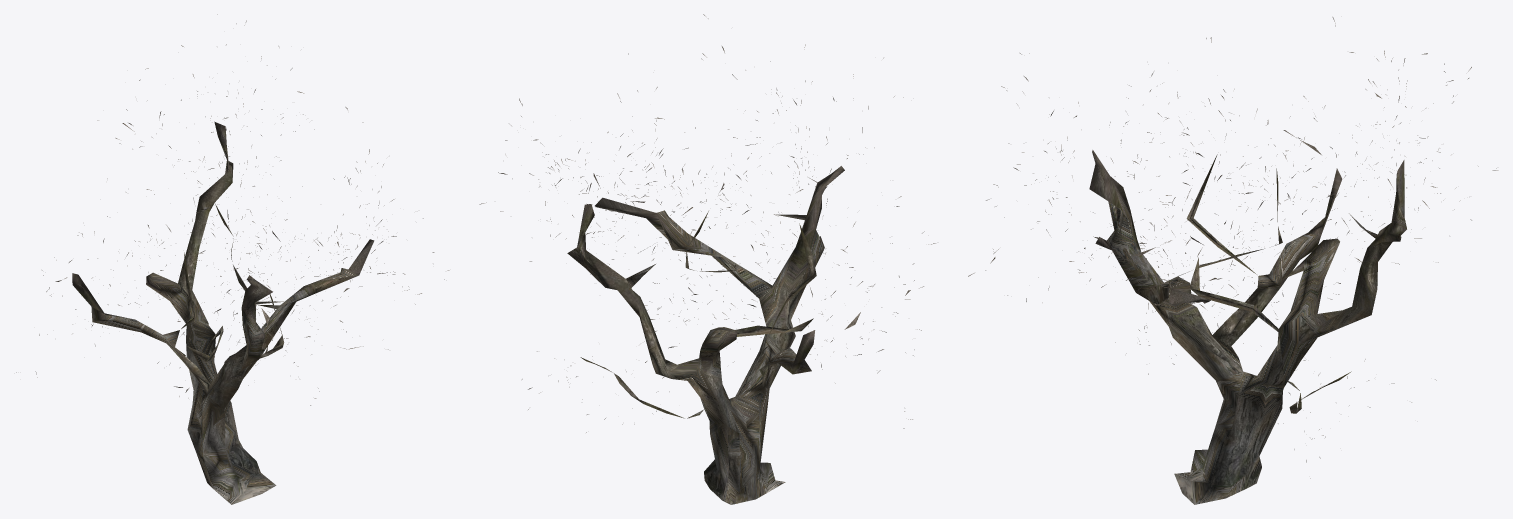
File: island_tree_01_wood.glb
The picture shows the model from 3 angles, left to right: view 1: azimuth 30°, elevation 25°; view 2: azimuth 150°, elevation 25°; view 3: azimuth 270°, elevation 25°; orthographic projection. The views are drawn at different scales.
Parts seen in each view (by area): view 1: island_tree_01_LOD0; view 2: island_tree_01_LOD0; view 3: island_tree_01_LOD0.
Part boxes in pixels (x1,y1,x2,y2): island_tree_01_LOD0: [16, 14, 449, 504]; island_tree_01_LOD0: [479, 14, 935, 504]; island_tree_01_LOD0: [968, 17, 1498, 504].
Bounding box in the file's own units: 4.62 × 4.95 × 4.74.
2 materials, 2 textured.
